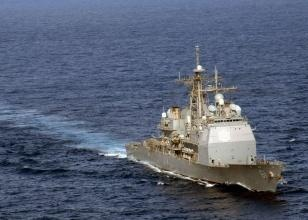warship: (124, 42, 283, 193)
